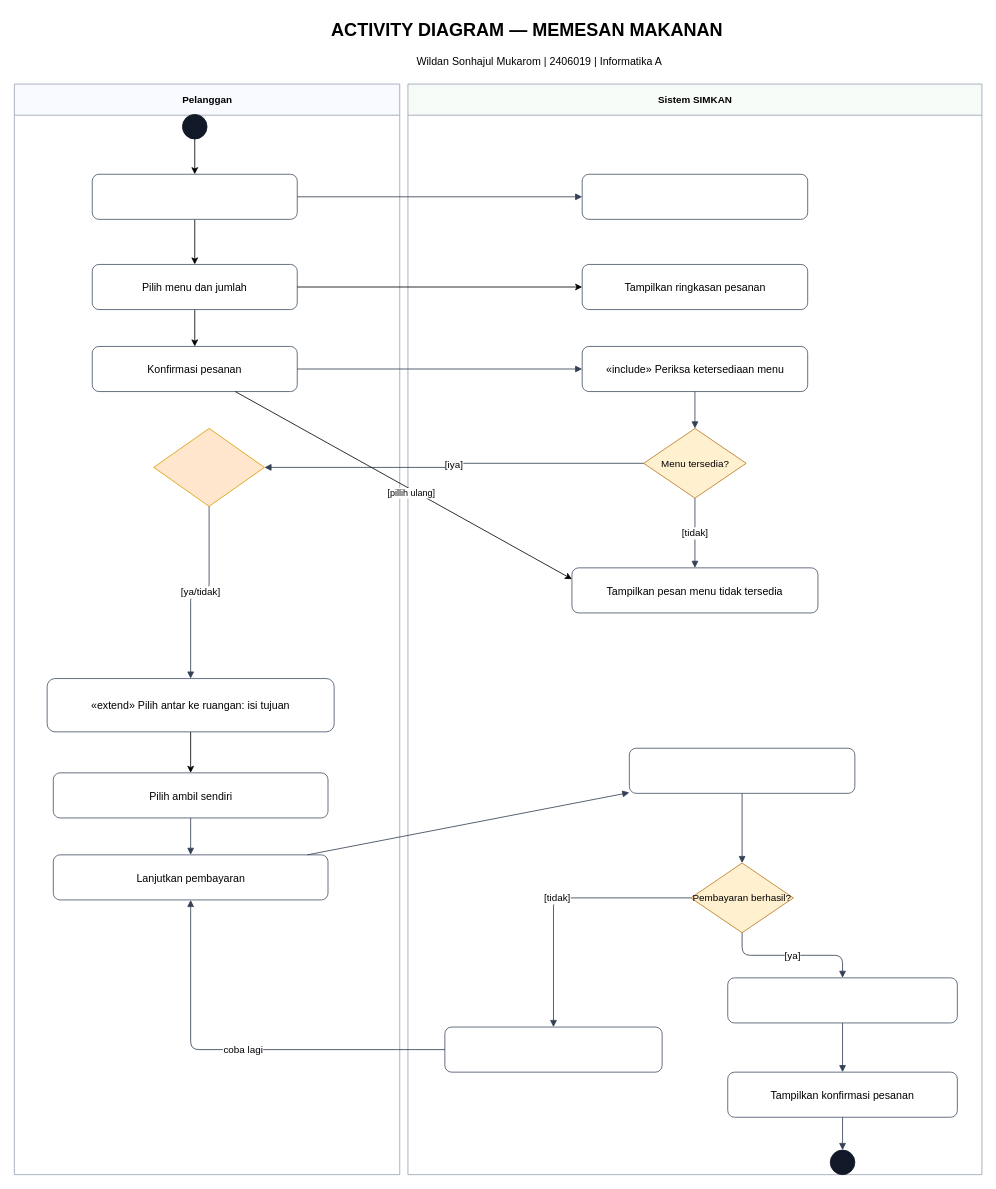
This 996x1189 diagram has some shape labels left out. Each missing label, with the box of its shape:
Buka daftar menu: (91, 173, 297, 219)
Pilih antar ke ruangan?: (153, 428, 264, 506)
Simpan pesanan: status Dipesan: (727, 977, 957, 1023)
Tampilkan kegagalan pembayaran: (444, 1026, 662, 1072)
Tampilkan menu, harga, ketersediaan: (581, 173, 808, 219)
«include» Bayar pesanan: (629, 747, 855, 793)
